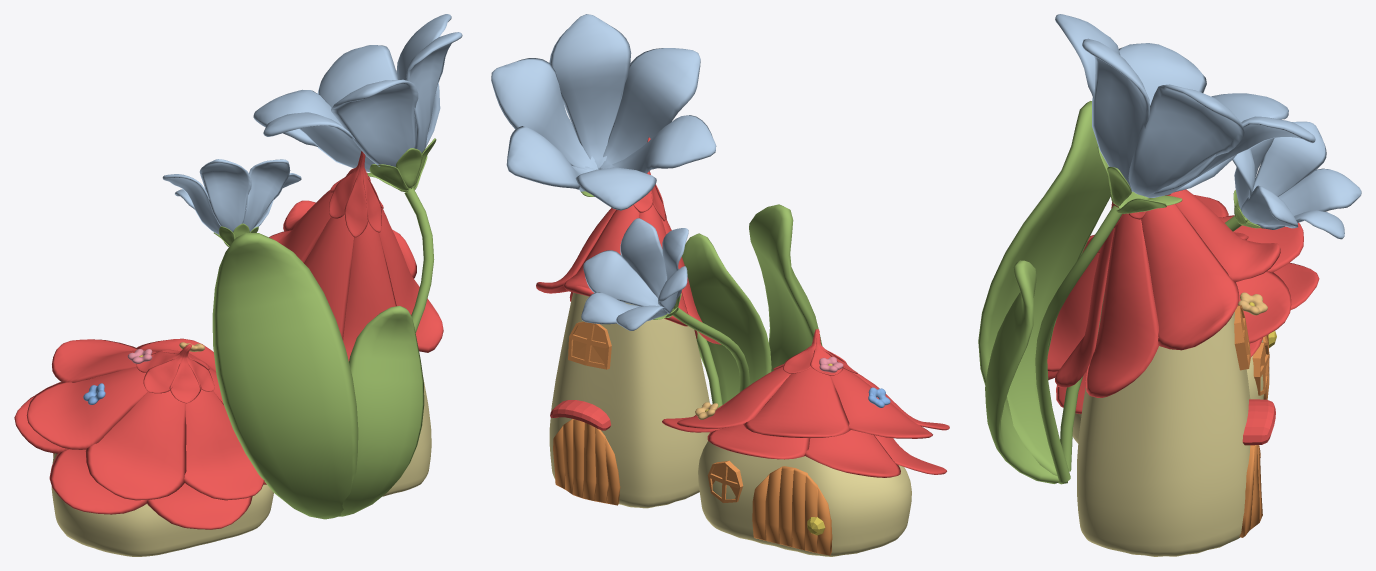
Rendered from ifblock.fbx.
3 renders of one model, left to right at view 1: azimuth 30°, elevation 25°; view 2: azimuth 150°, elevation 25°; view 3: azimuth 270°, elevation 25°, orthographic. The views are drawn at different scales.
Visible parts, largest first — view 1: Cylinder.009; view 2: Cylinder.009; view 3: Cylinder.009.
Part boxes in pixels (<box>): Cylinder.009: <box>14,14,462,556</box>; Cylinder.009: <box>491,14,949,556</box>; Cylinder.009: <box>978,14,1361,556</box>.
Bounding box in the file's own units: 385 × 375 × 248.
